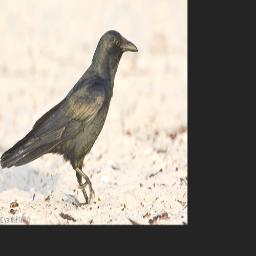Crow: (0, 28, 140, 205)
